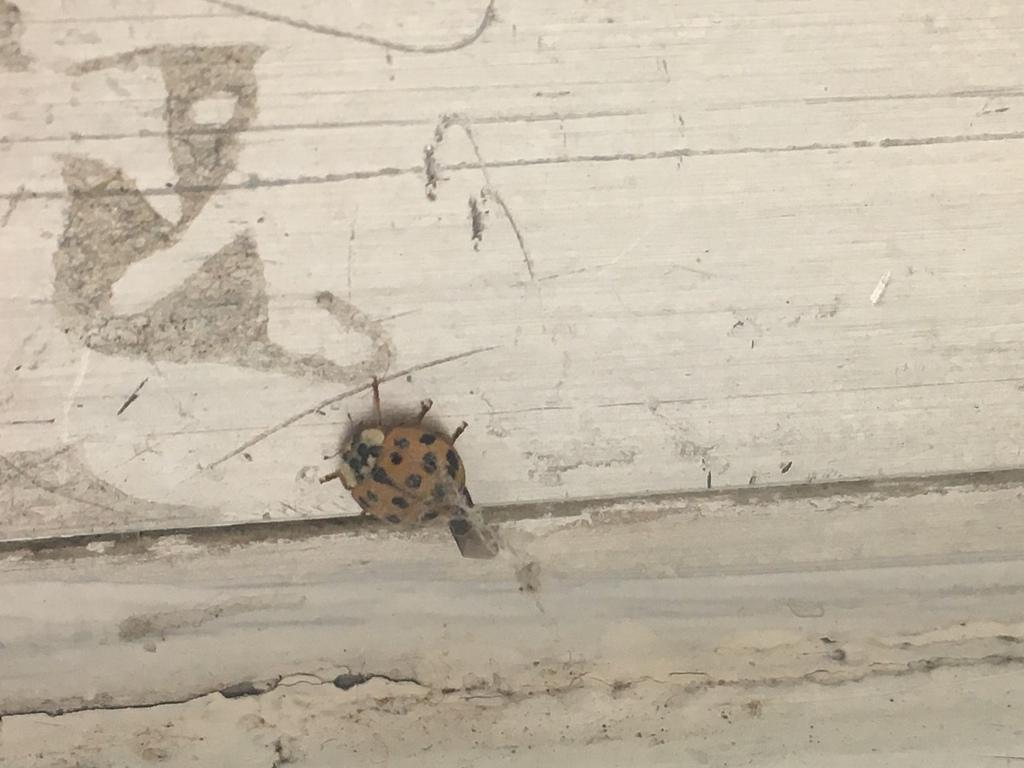ladybug: (317, 371, 473, 535)
